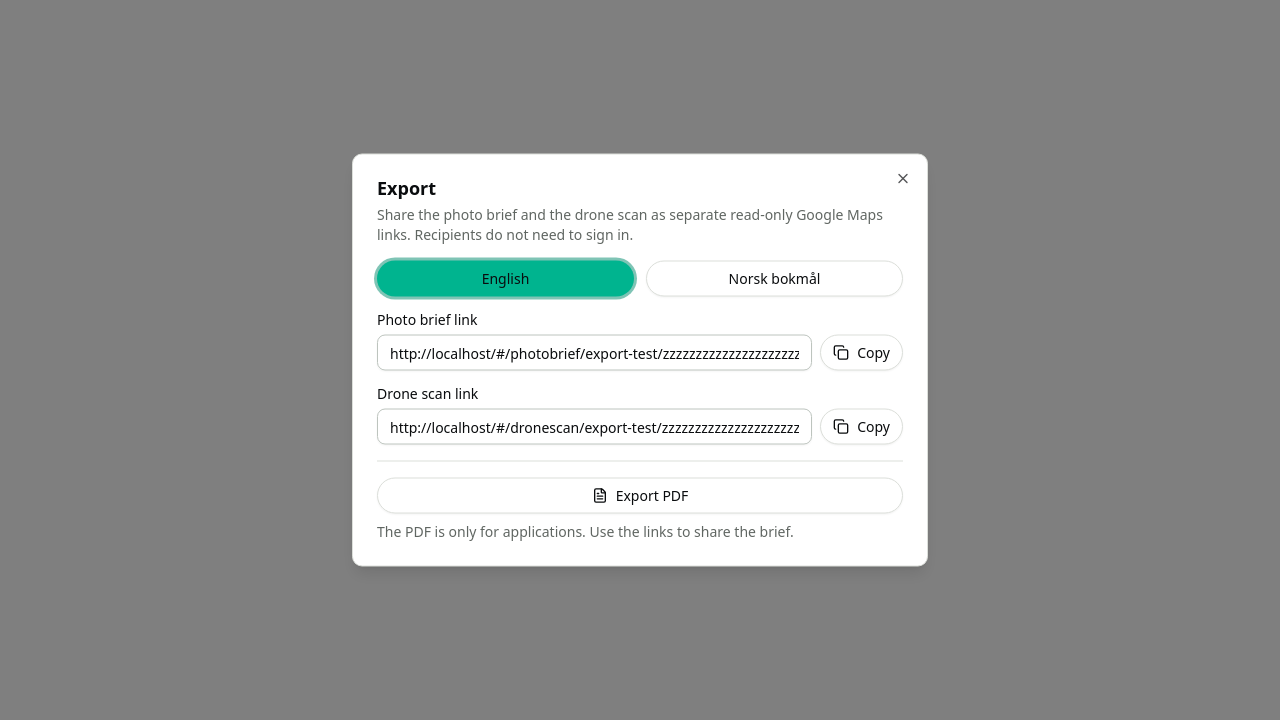
Test case: shows both links as soon as Export opens, without capturing the map or saving notes
Expected: the text "The PDF is only for applications. Use the links to share the brief." is shown, [377,522,794,540]
Click the button "Norsk bokmål".
click(774, 278)  # box [646,260,903,296]
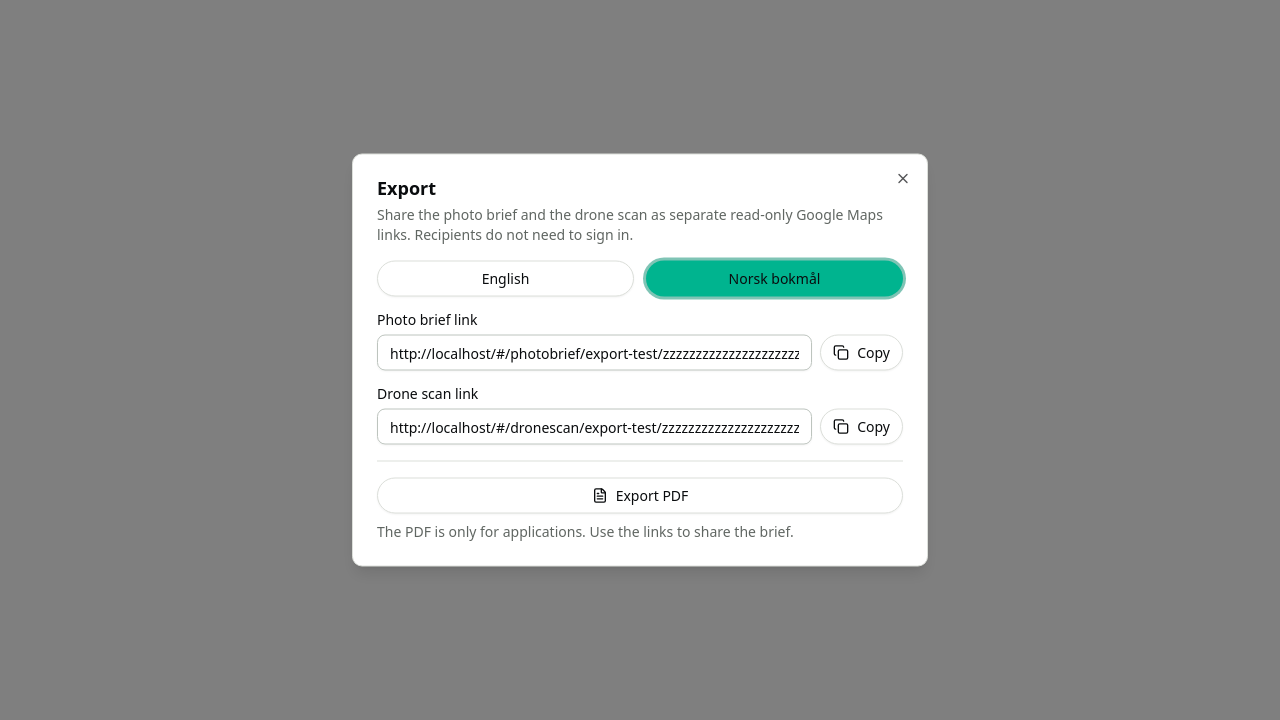
Click the button with aria-label "Copy drone scan link".
click(862, 426)  # box [820,408,903,444]
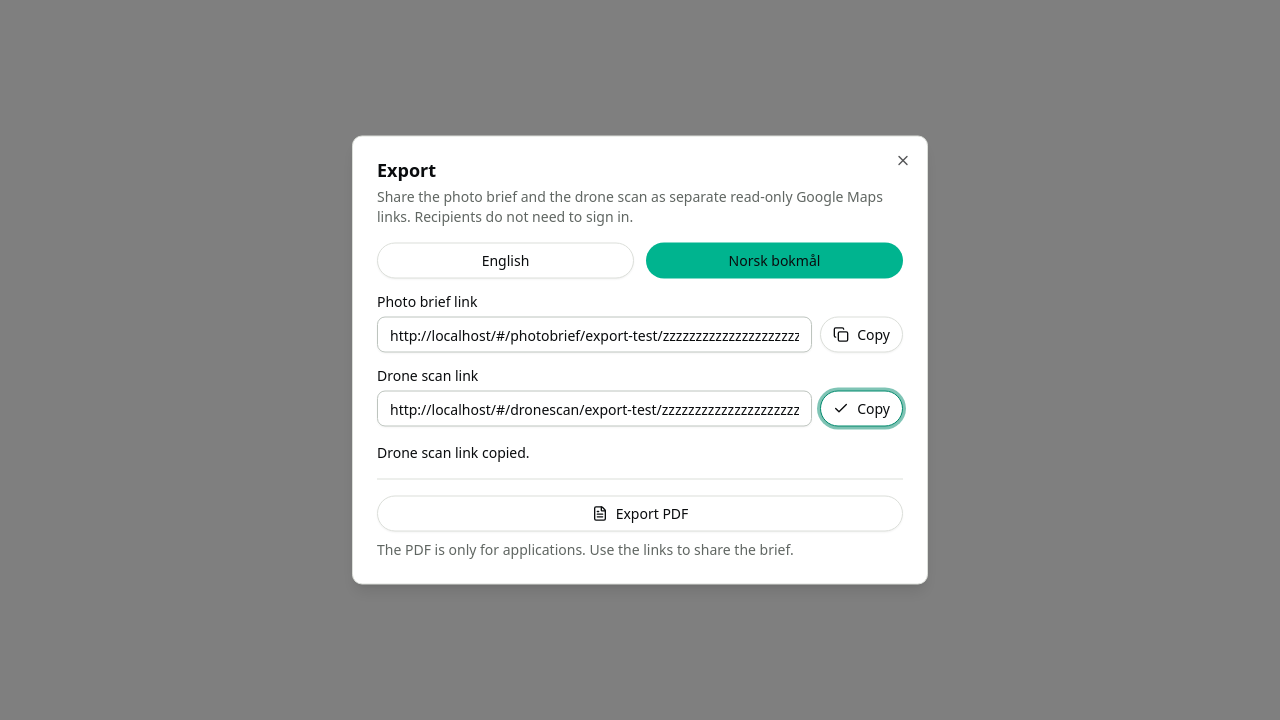
Result: the message reads "Drone scan link copied." at [377,442,530,462]
Click the button "Export PDF".
click(640, 514)  # box [377,496,903,532]
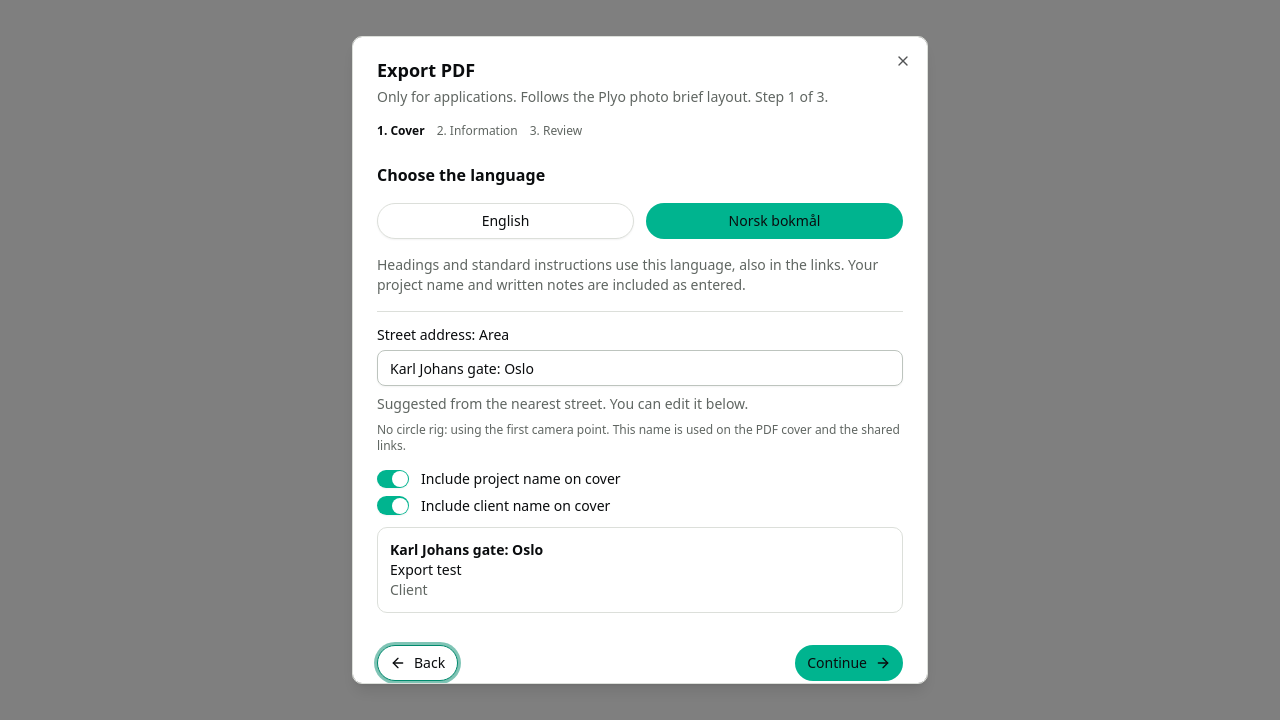
Result: the heading "Export PDF" is shown at [377,58,475,82]
Click the button "Back".
click(418, 663)  # box [377,645,458,681]
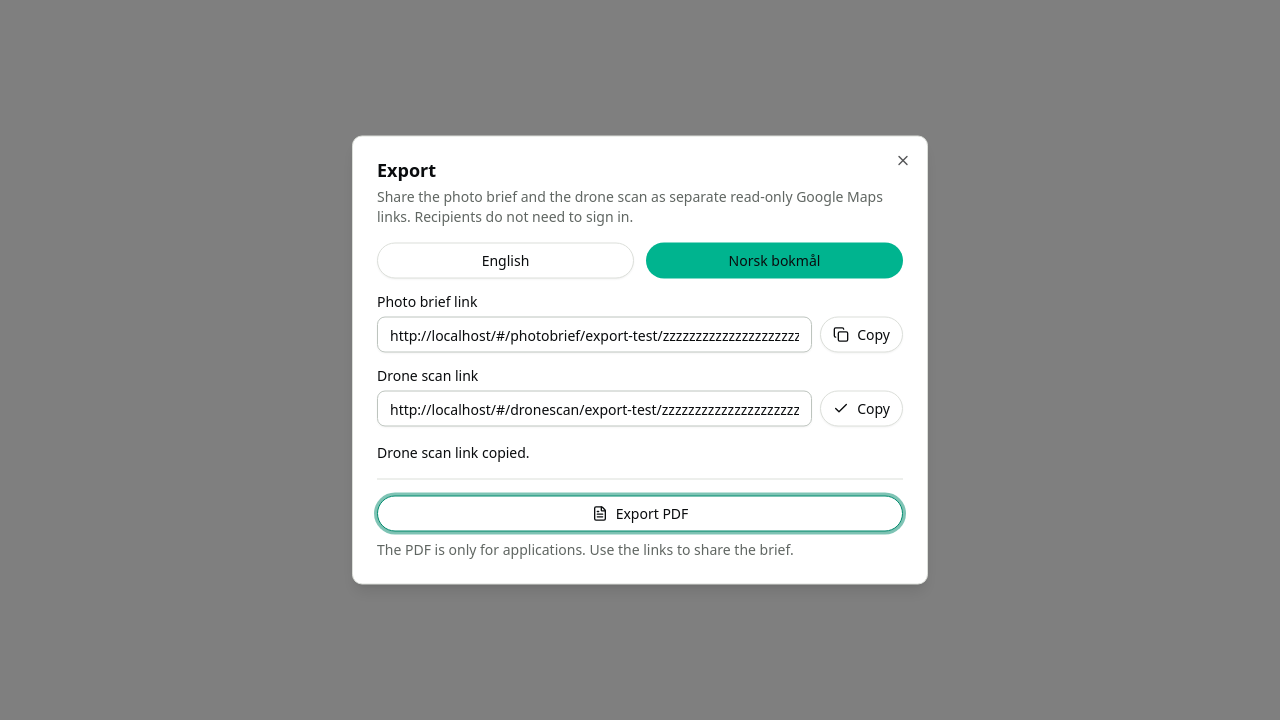
Result: the field labelled "Photo brief link" is shown at [377,316,812,352]
